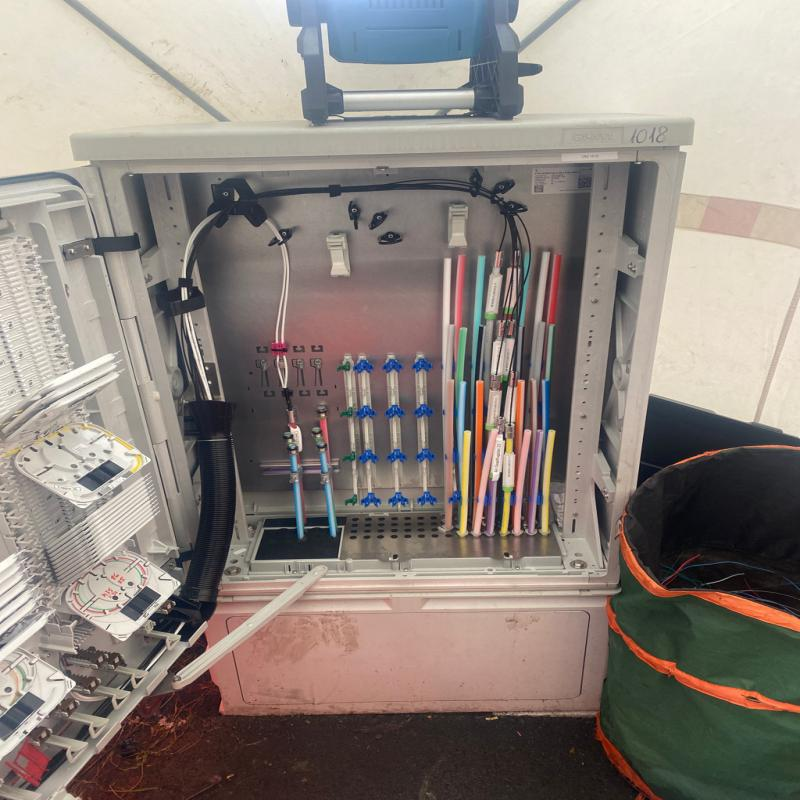NT-Gehause: (0, 110, 694, 794)
Spleiskassetten: (0, 214, 187, 678)
